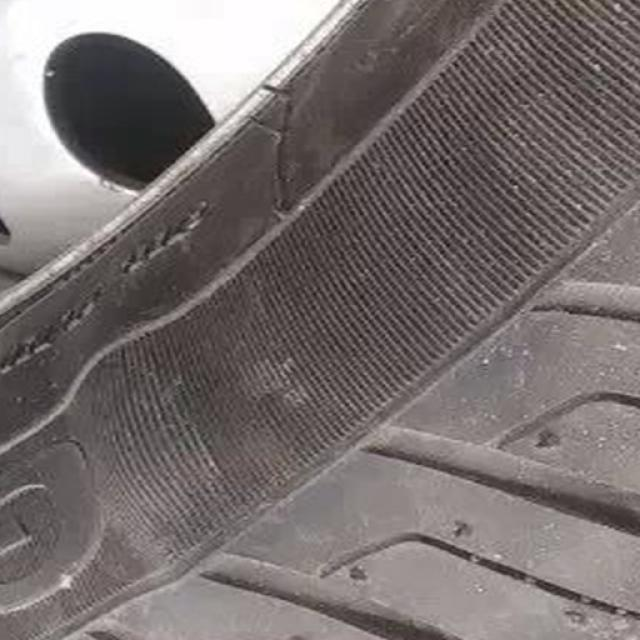Bulge: (46, 300, 287, 565)
